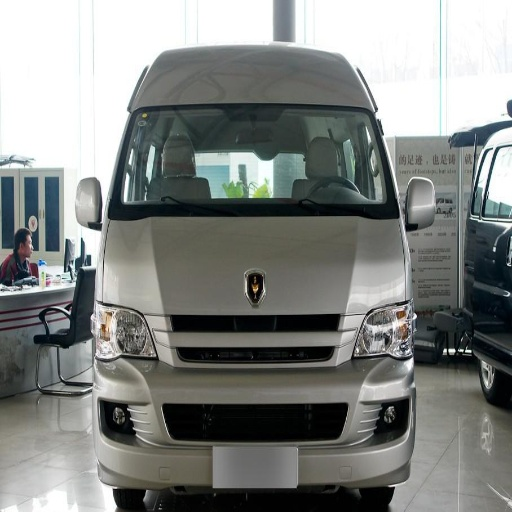front_bumper: (95, 291, 414, 499)
front_right_light: (91, 300, 153, 359)
hood: (107, 217, 258, 315), (275, 217, 406, 314)
left_mirror: (406, 179, 438, 230)
trunk: (242, 225, 301, 289)
